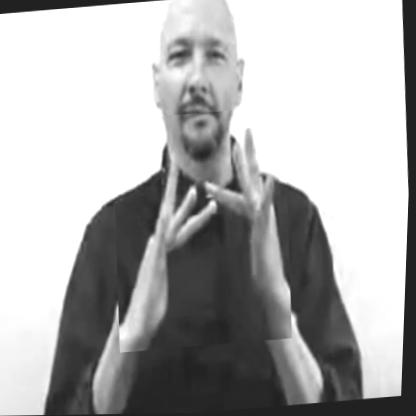Internet: (106, 107, 301, 353)
